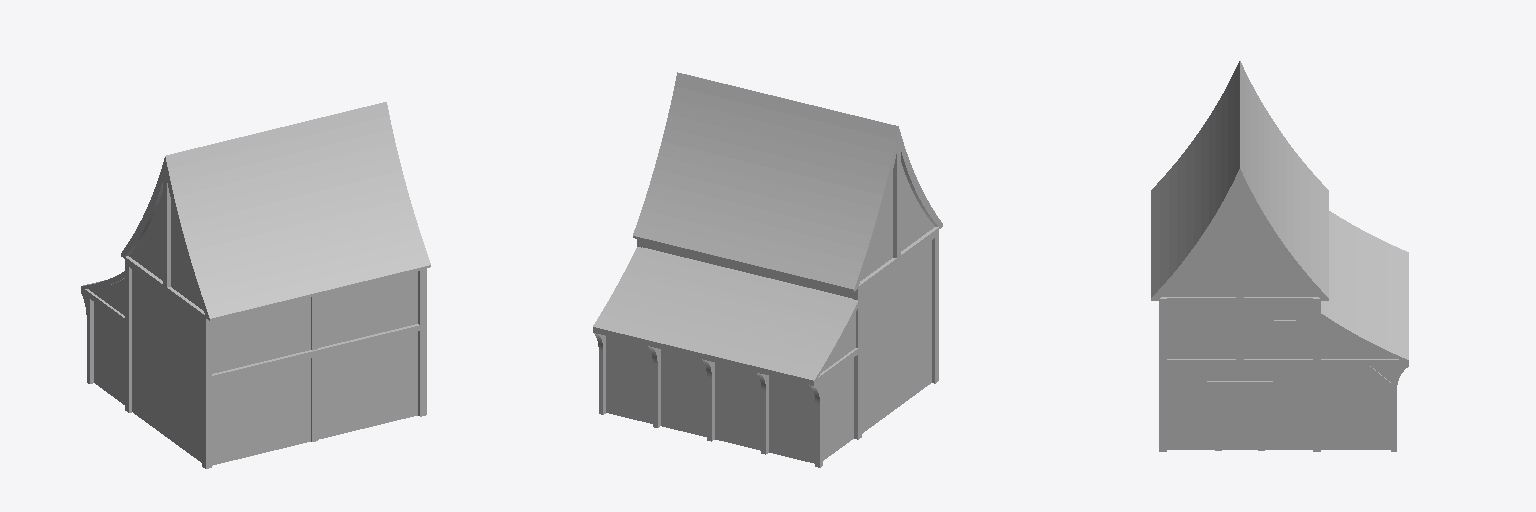
The model's file is Tavern.obj.
3 renders of one model, left to right at view 1: azimuth 30°, elevation 25°; view 2: azimuth 150°, elevation 25°; view 3: azimuth 270°, elevation 25°, orthographic.
Parts seen in each view (by area): view 1: Tavern; view 2: Tavern; view 3: Tavern.
Boxes of the visible parts, box(x1,y1,x2,y2) form: Tavern: box(81, 102, 430, 468); Tavern: box(593, 72, 942, 467); Tavern: box(1151, 61, 1408, 451).
Bounding box in the file's own units: 10.66 × 13.07 × 10.77.